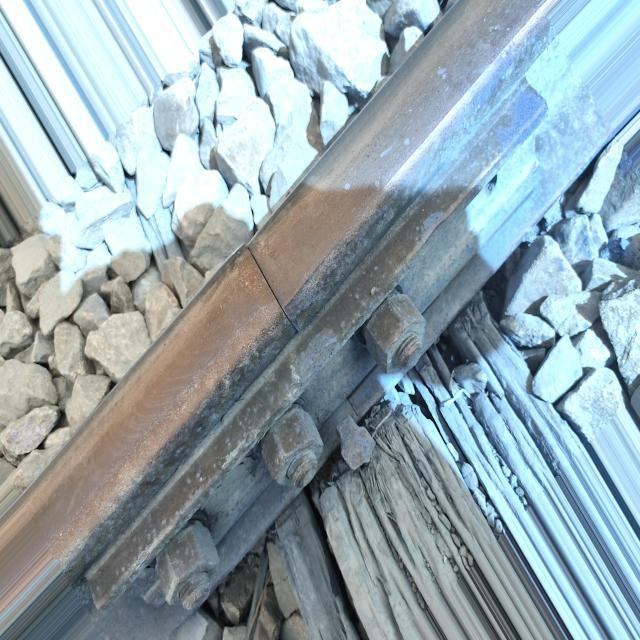Defective Joint: (84, 78, 548, 613)
Good Fasteners: (336, 418, 375, 471)
